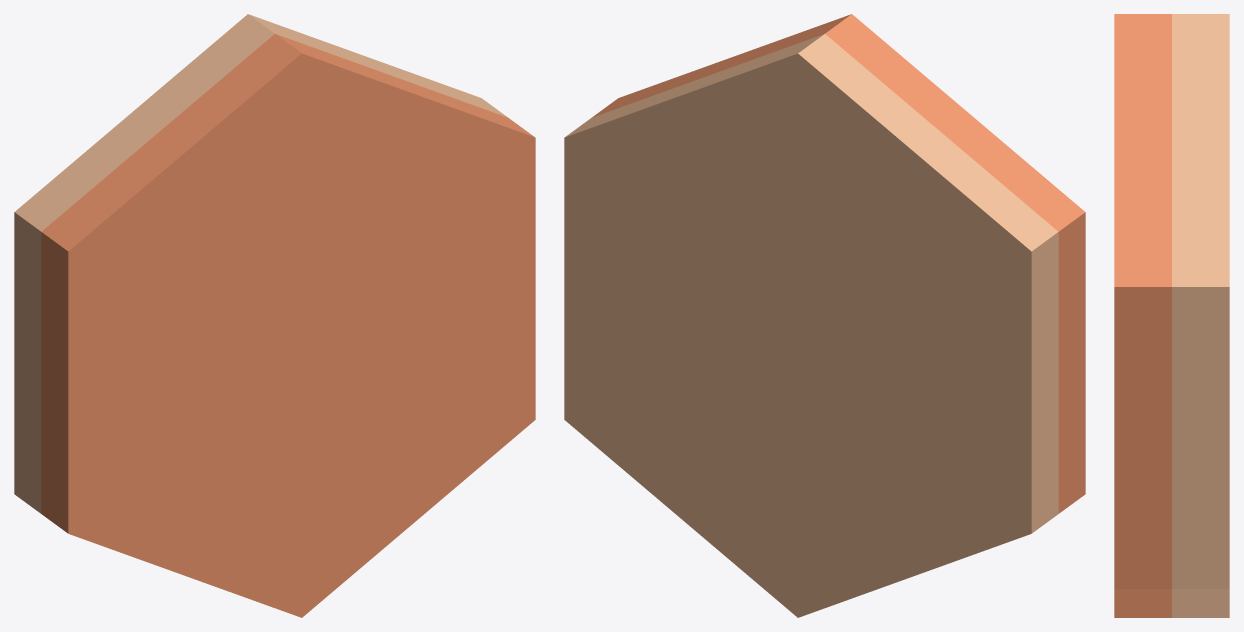
The model's file is sand.obj.
3 renders of one model, left to right at view 1: azimuth 30°, elevation 25°; view 2: azimuth 150°, elevation 25°; view 3: azimuth 270°, elevation 25°, orthographic. The views are drawn at different scales.
Visible parts, largest first — view 1: sand; view 2: sand; view 3: sand.
Part boxes in pixels (bbox=[...]): sand: bbox=[14, 14, 535, 617]; sand: bbox=[564, 14, 1085, 617]; sand: bbox=[1114, 14, 1229, 617].
Size of the model in its own units: 1 by 1.15 by 0.2.
Materials: 1 (1 with a texture image).
